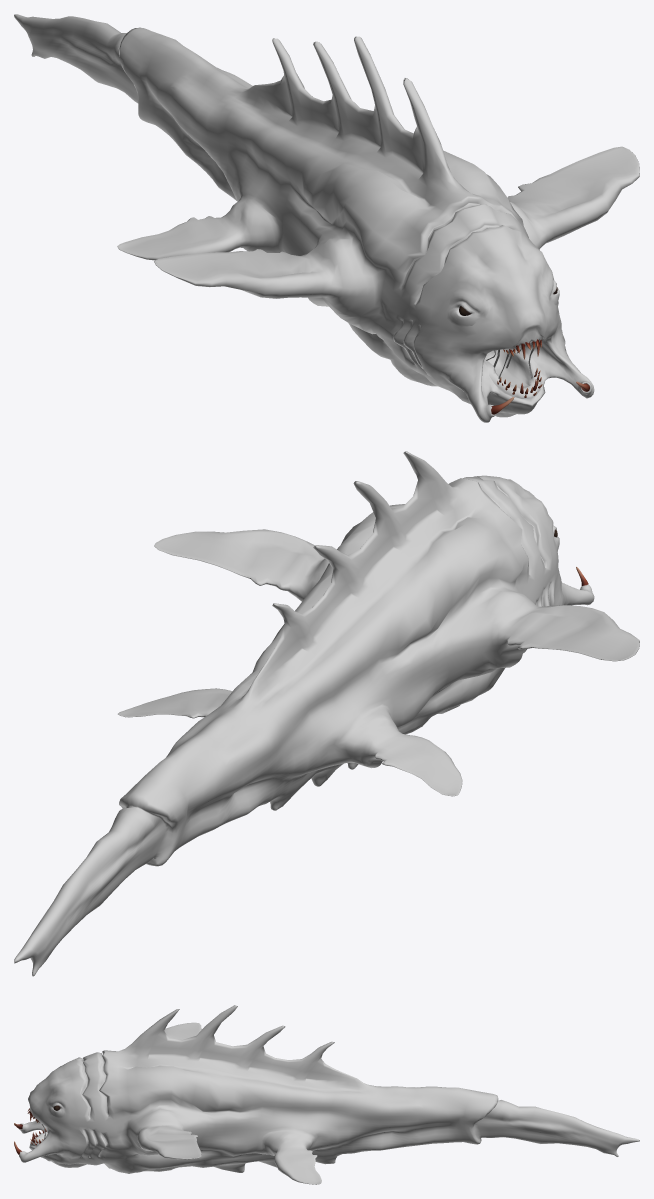
The model's file is Giant Monster Fish.obj.
The picture shows the model from 3 angles, top to bottom: view 1: azimuth 30°, elevation 25°; view 2: azimuth 150°, elevation 25°; view 3: azimuth 270°, elevation 25°; orthographic projection. The views are drawn at different scales.
Visible parts, largest first — view 1: Monster_Body Giant_Monster_Fish, Giant_Monster_Fish Teeth; view 2: Monster_Body Giant_Monster_Fish; view 3: Monster_Body Giant_Monster_Fish.
Boxes of the visible parts, x1,y1,x2,y2 form: Monster_Body Giant_Monster_Fish: [14, 14, 639, 422]; Giant_Monster_Fish Teeth: [491, 339, 589, 414]; Monster_Body Giant_Monster_Fish: [14, 451, 639, 976]; Monster_Body Giant_Monster_Fish: [19, 1005, 639, 1184].
Bounding box in the file's own units: 94.3 × 54.15 × 183.
